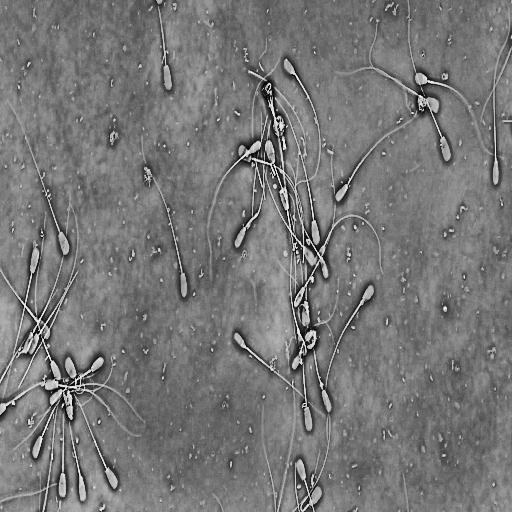coiled-tail: (75, 378, 86, 395)
dirt-particles: (259, 79, 288, 152), (303, 326, 319, 351), (63, 391, 75, 423), (417, 94, 427, 114)
folded-tail: (300, 416, 330, 512)
loose-tail: (17, 267, 80, 389), (246, 66, 308, 168), (369, 17, 416, 116), (251, 54, 282, 191), (478, 42, 512, 123), (277, 378, 297, 512), (248, 110, 269, 230), (41, 399, 60, 512), (259, 401, 277, 512), (0, 479, 59, 505), (262, 113, 273, 204)
normal: (5, 93, 72, 261), (12, 353, 106, 454), (232, 328, 333, 418), (276, 258, 333, 416), (30, 358, 116, 461), (413, 68, 506, 162), (139, 130, 189, 301), (325, 281, 377, 444), (334, 109, 418, 204), (406, 0, 454, 164), (207, 141, 261, 278), (273, 94, 320, 246), (1, 243, 41, 401), (45, 379, 142, 438), (333, 65, 441, 115), (283, 56, 324, 187), (233, 131, 272, 250), (73, 393, 119, 491), (34, 218, 61, 381), (282, 188, 307, 359), (314, 214, 383, 274), (491, 5, 511, 189), (300, 415, 332, 512), (155, 0, 173, 96), (67, 418, 87, 504), (302, 346, 314, 434), (64, 356, 86, 395), (58, 406, 67, 500)
proximal-droplet: (359, 299, 364, 306), (297, 328, 300, 335)
